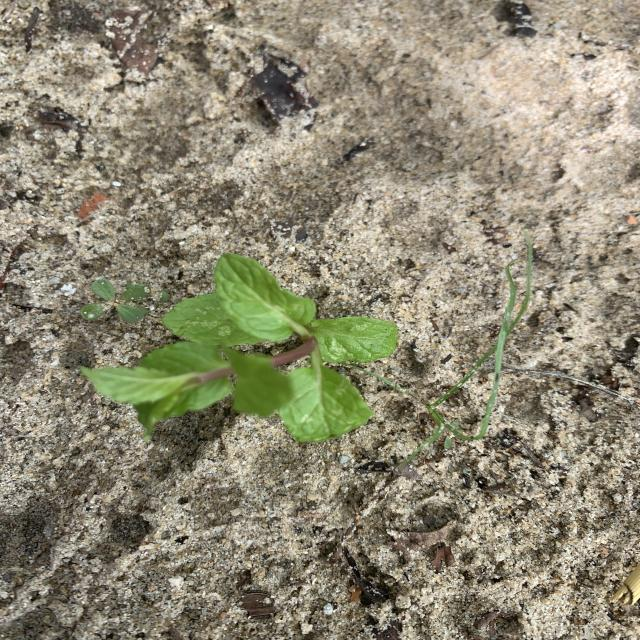crop: (81, 253, 398, 441)
weed: (476, 231, 533, 438), (405, 363, 477, 477), (91, 279, 151, 323), (81, 303, 106, 320)
